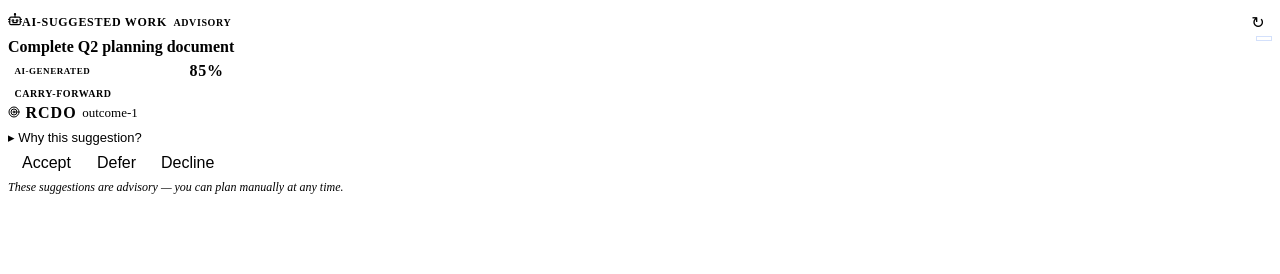
Test: NextWorkSuggestionPanel › shows rationale and sourceDetail inside the expanded 'Why?' section
Note: Expand it
Click the button "▸ Why this suggestion?" at (75, 138), box [8,129,142,147]
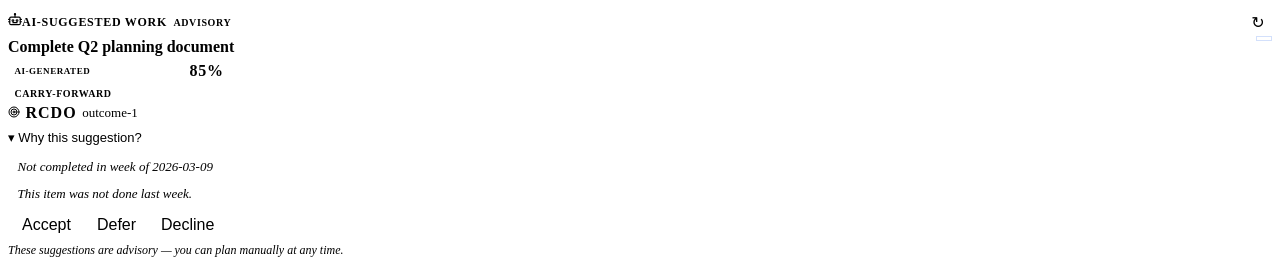
Now the text "Not completed in week of 2026-03-09" is shown, box [18,158,213,174]
Now the text "This item was not done last week." is shown, box [18,186,192,201]
